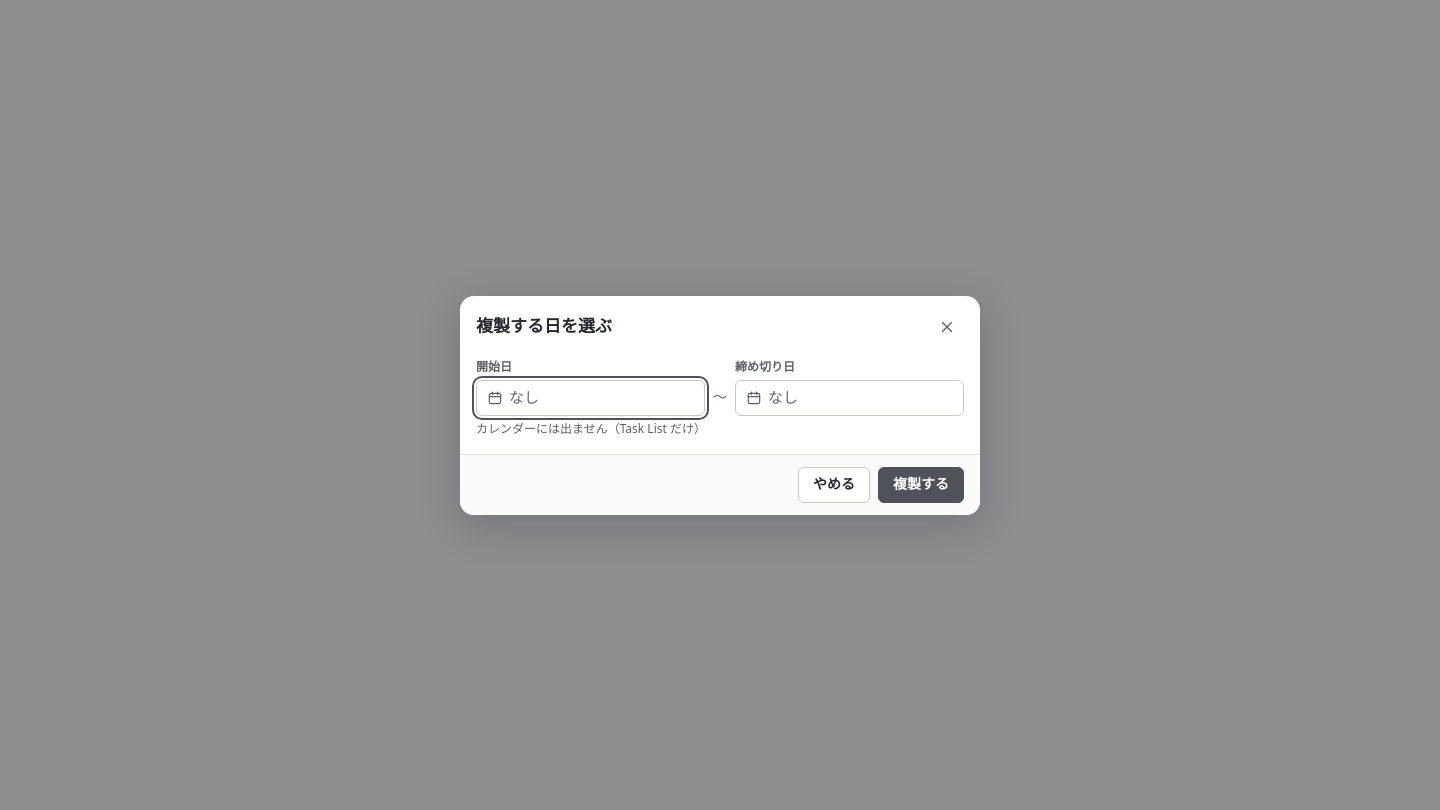
Test: 複製する日を選ぶ（12.7） › list 生まれの開始日は［×］で消せる
Click the button with test id "dup-start". click: coordinates (590, 398)
box: [476, 380, 705, 416]
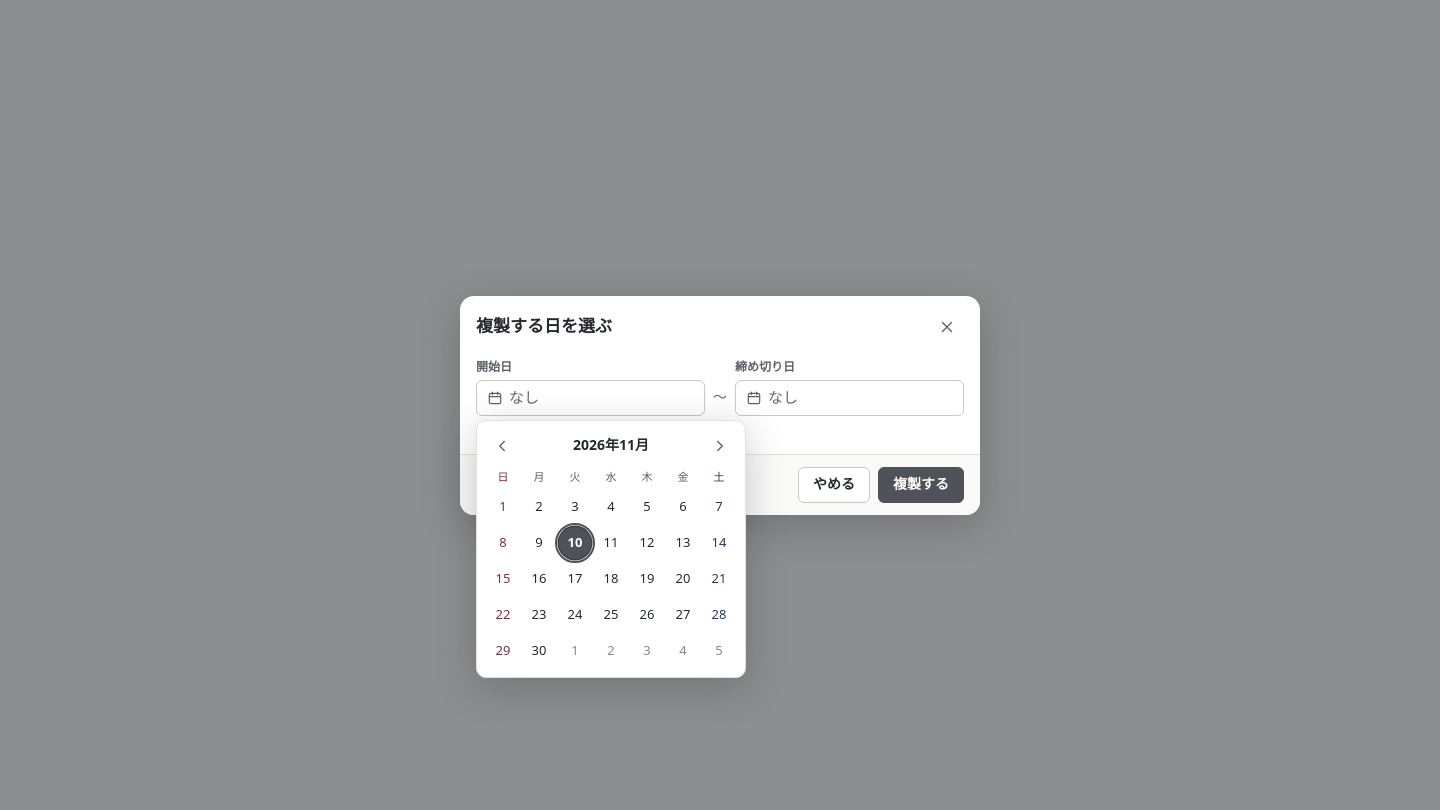
Click the button "12". click: coordinates (647, 542)
box: [631, 526, 663, 558]
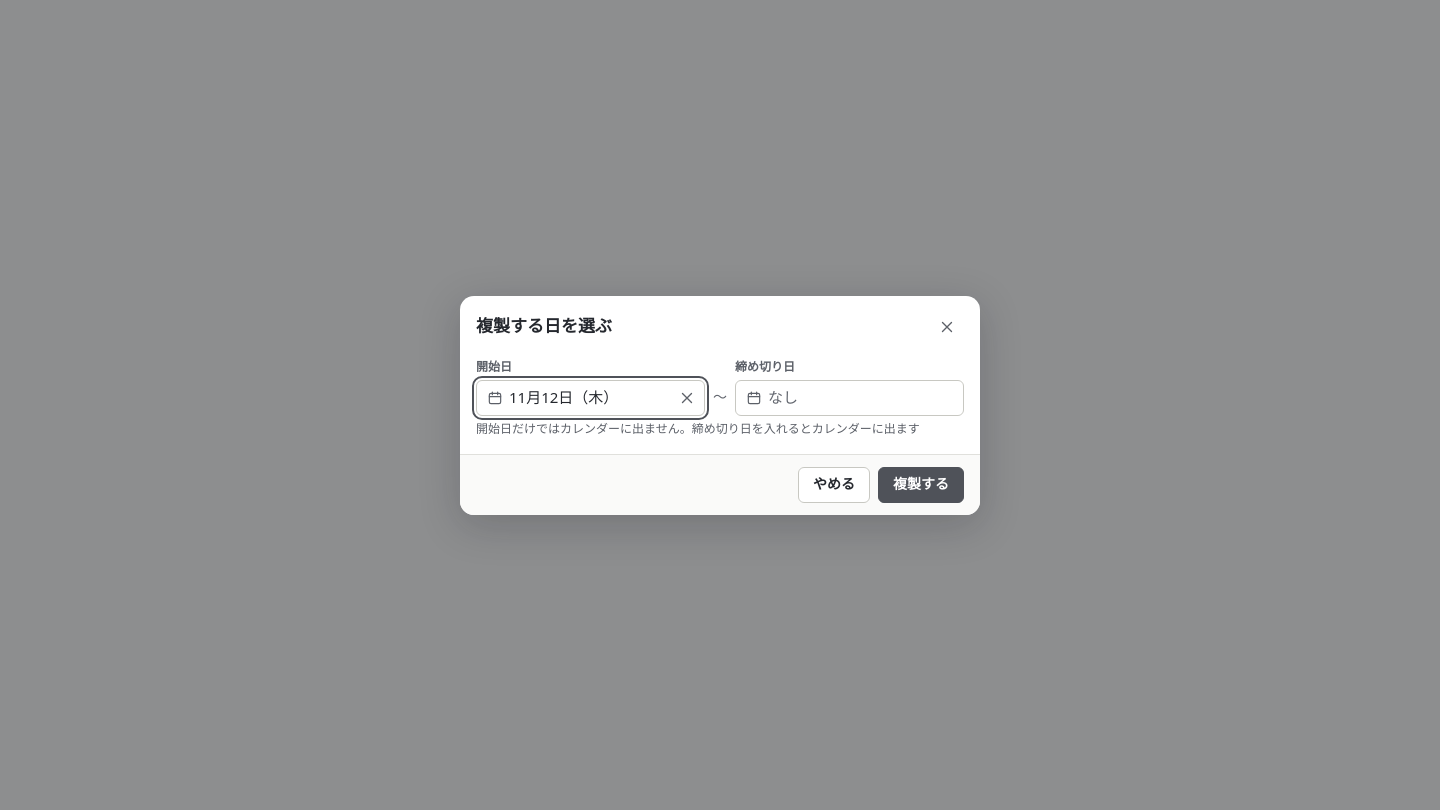
Click the button named "開始日を消す". click: coordinates (687, 398)
box: [670, 380, 704, 414]
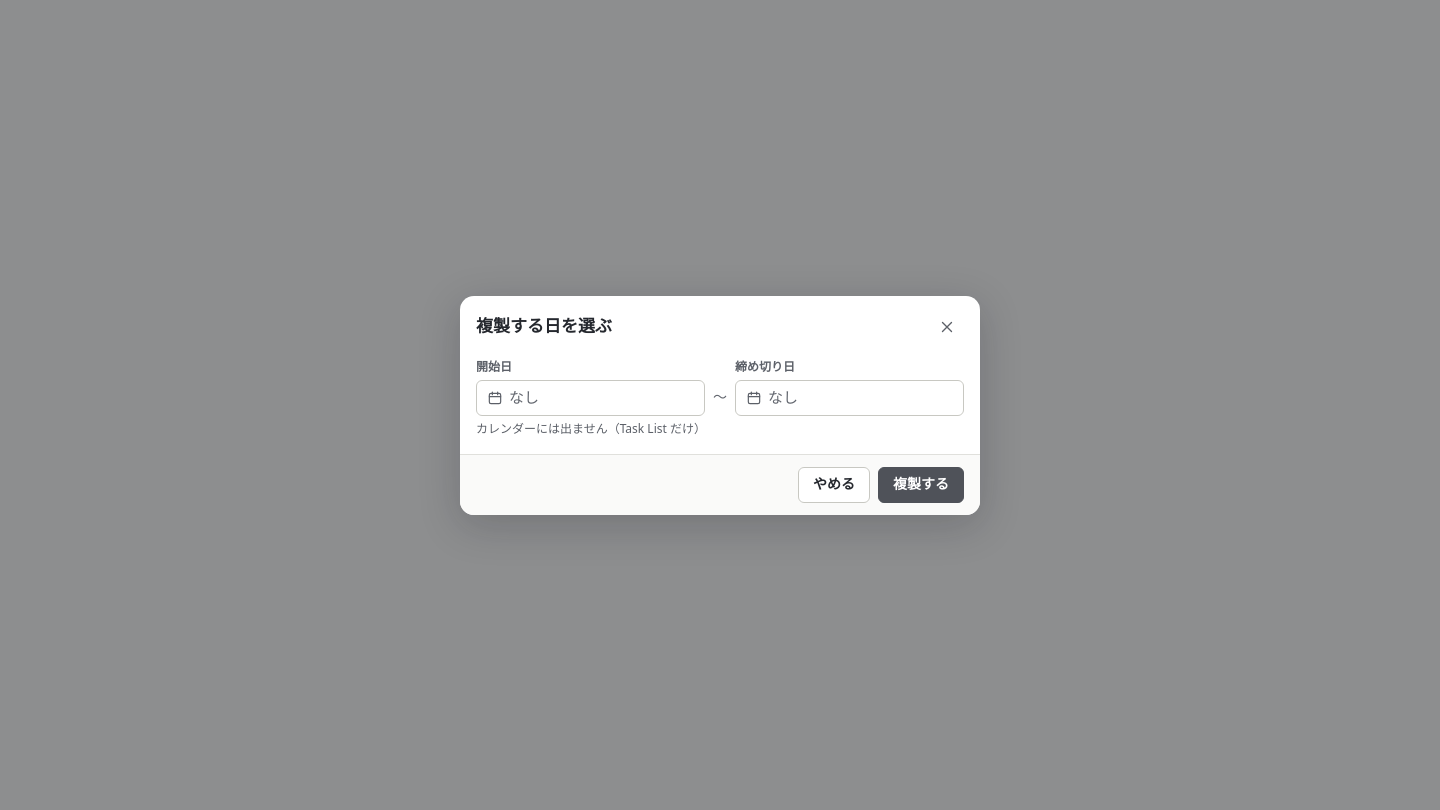
Expected: the button with test id "dup-start" reads "なし", [476, 380, 705, 416]
